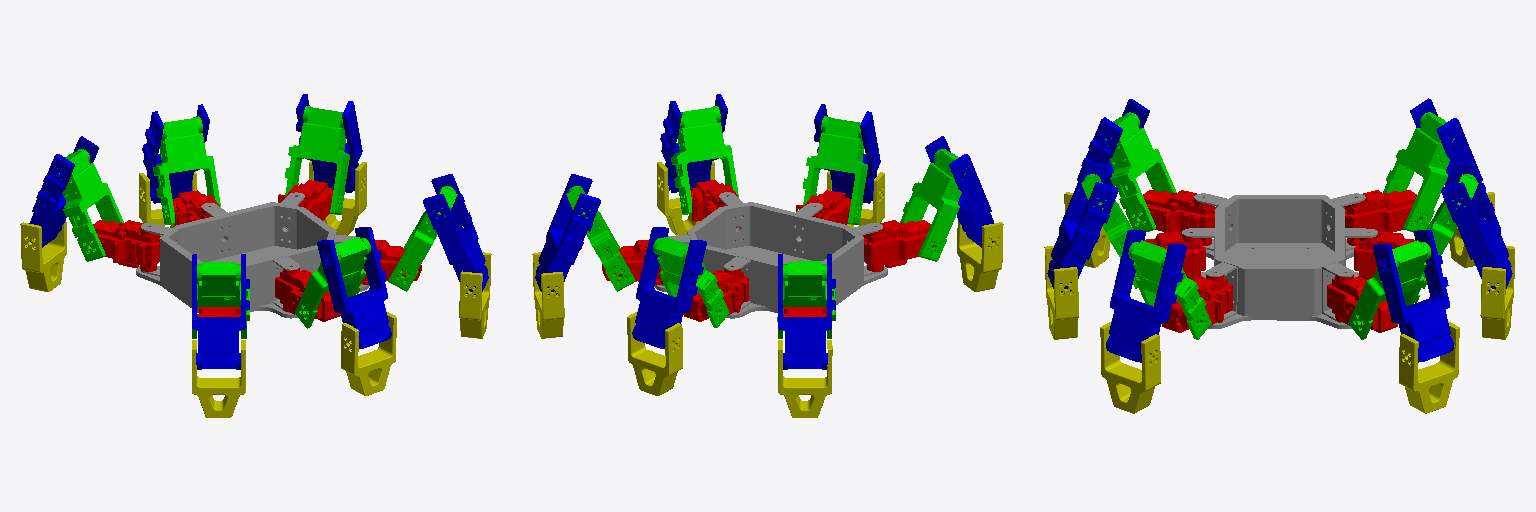
The robot description file, URDF, robot "hexapod":
<?xml version="1.0" ?>
<!-- =================================================================================== -->
<!-- |    This document was autogenerated by xacro from hexapod.xacro                  | -->
<!-- |    EDITING THIS FILE BY HAND IS NOT RECOMMENDED                                 | -->
<!-- =================================================================================== -->
<robot name="hexapod" xmlns:xacro="http://www.ros.org/wiki/xacro">
  <link name="base_link">
    <visual>
      <origin rpy="1.57 0 0"/>
      <geometry>
        <mesh filename="package://model/meshes/body_bin.stl"/>
      </geometry>
      <material name="abs">
        <color rgba="0.6 0.6 0.6 1"/>
      </material>
      <collision>
        <mesh filename="package://model/meshes/body_bin.stl"/>
      </collision>
    </visual>
  </link>
  <link name="leg_l_1_f1">
    <visual>
      <origin rpy="0 1.57 -1.57" xyz="-0.009 0 0"/>
      <geometry>
        <mesh filename="package://model/meshes/femur_1_bin.stl"/>
      </geometry>
      <material name="abs1">
        <color rgba="0.9 0.0 0.0 1"/>
      </material>
    </visual>
  </link>
  <link name="leg_l_1_f3">
    <visual>
      <origin rpy="4.71 0 1.57" xyz="0 -0.053 0.013"/>
      <geometry>
        <mesh filename="package://model/meshes/femur_3_bin.stl"/>
      </geometry>
      <material name="abs2">
        <color rgba="0.0 0.9 0.0 1"/>
      </material>
    </visual>
  </link>
  <link name="leg_l_1_f2">
    <visual>
      <origin rpy="4.71 0 0" xyz="-0.063 0 0.013"/>
      <geometry>
        <mesh filename="package://model/meshes/femur_2_bin.stl"/>
      </geometry>
      <material name="abs3">
        <color rgba="0.0 0.0 0.9 1"/>
      </material>
    </visual>
  </link>
  <link name="leg_l_1_f4">
    <visual>
      <origin rpy="1.57 0 4.71" xyz="0 0.038 -0.013"/>
      <geometry>
        <mesh filename="package://model/meshes/femur_4_bin.stl"/>
      </geometry>
      <material name="abs4">
        <color rgba="0.8 0.8 0.0 1"/>
      </material>
    </visual>
  </link>
  <joint name="joint_l_1_f1" type="revolute">
    <parent link="base_link"/>
    <child link="leg_l_1_f1"/>
    <origin rpy="0 0 0.7" xyz="0.103 0.07 0"/>
    <axis xyz="0 0 1"/>
    <limit effort="15" lower="-1.57" upper="1.57" velocity="1.0"/>
  </joint>
  <joint name="joint_l_1_f3" type="revolute">
    <parent link="leg_l_1_f1"/>
    <child link="leg_l_1_f3"/>
    <origin rpy="-1.1 0 1.57" xyz="0.062 0.0 0.0"/>
    <axis xyz="1 0 0"/>
    <limit effort="15" lower="-1.57" upper="1.57" velocity="1.0"/>
  </joint>
  <joint name="joint_l_1_f2" type="revolute">
    <parent link="leg_l_1_f3"/>
    <child link="leg_l_1_f2"/>
    <origin rpy="0 -2.3 1.57" xyz="0.0 -0.094 0.0"/>
    <axis xyz="0 1 0"/>
    <limit effort="15" lower="-1.57" upper="1.57" velocity="1.0"/>
  </joint>
  <joint name="joint_l_1_f4" type="revolute">
    <parent link="leg_l_1_f2"/>
    <child link="leg_l_1_f4"/>
    <origin rpy="-0.4 0 1.57" xyz="-0.104 0.0 0.0"/>
    <axis xyz="1 0 0"/>
    <limit effort="15" lower="-1.57" upper="1.57" velocity="1.0"/>
  </joint>
  <link name="leg_l_2_f1">
    <visual>
      <origin rpy="0 1.57 -1.57" xyz="-0.009 0 0"/>
      <geometry>
        <mesh filename="package://model/meshes/femur_1_bin.stl"/>
      </geometry>
      <material name="abs1">
        <color rgba="0.9 0.0 0.0 1"/>
      </material>
    </visual>
  </link>
  <link name="leg_l_2_f3">
    <visual>
      <origin rpy="4.71 0 1.57" xyz="0 -0.053 0.013"/>
      <geometry>
        <mesh filename="package://model/meshes/femur_3_bin.stl"/>
      </geometry>
      <material name="abs2">
        <color rgba="0.0 0.9 0.0 1"/>
      </material>
    </visual>
  </link>
  <link name="leg_l_2_f2">
    <visual>
      <origin rpy="4.71 0 0" xyz="-0.063 0 0.013"/>
      <geometry>
        <mesh filename="package://model/meshes/femur_2_bin.stl"/>
      </geometry>
      <material name="abs3">
        <color rgba="0.0 0.0 0.9 1"/>
      </material>
    </visual>
  </link>
  <link name="leg_l_2_f4">
    <visual>
      <origin rpy="1.57 0 4.71" xyz="0 0.038 -0.013"/>
      <geometry>
        <mesh filename="package://model/meshes/femur_4_bin.stl"/>
      </geometry>
      <material name="abs4">
        <color rgba="0.8 0.8 0.0 1"/>
      </material>
    </visual>
  </link>
  <joint name="joint_l_2_f1" type="revolute">
    <parent link="base_link"/>
    <child link="leg_l_2_f1"/>
    <origin rpy="0 0 1.4" xyz="0.0 0.096 0"/>
    <axis xyz="0 0 1"/>
    <limit effort="15" lower="-1.57" upper="1.57" velocity="1.0"/>
  </joint>
  <joint name="joint_l_2_f3" type="revolute">
    <parent link="leg_l_2_f1"/>
    <child link="leg_l_2_f3"/>
    <origin rpy="-1.1 0 1.57" xyz="0.062 0.0 0.0"/>
    <axis xyz="1 0 0"/>
    <limit effort="15" lower="-1.57" upper="1.57" velocity="1.0"/>
  </joint>
  <joint name="joint_l_2_f2" type="revolute">
    <parent link="leg_l_2_f3"/>
    <child link="leg_l_2_f2"/>
    <origin rpy="0 -2.3 1.57" xyz="0.0 -0.094 0.0"/>
    <axis xyz="1 0 0"/>
    <limit effort="15" lower="-1.57" upper="1.57" velocity="1.0"/>
  </joint>
  <joint name="joint_l_2_f4" type="revolute">
    <parent link="leg_l_2_f2"/>
    <child link="leg_l_2_f4"/>
    <origin rpy="-0.4 0 1.57" xyz="-0.104 0.0 0.0"/>
    <axis xyz="1 0 0"/>
    <limit effort="15" lower="-1.57" upper="1.57" velocity="1.0"/>
  </joint>
  <link name="leg_l_3_f1">
    <visual>
      <origin rpy="0 1.57 -1.57" xyz="-0.009 0 0"/>
      <geometry>
        <mesh filename="package://model/meshes/femur_1_bin.stl"/>
      </geometry>
      <material name="abs1">
        <color rgba="0.9 0.0 0.0 1"/>
      </material>
    </visual>
  </link>
  <link name="leg_l_3_f3">
    <visual>
      <origin rpy="4.71 0 1.57" xyz="0 -0.053 0.013"/>
      <geometry>
        <mesh filename="package://model/meshes/femur_3_bin.stl"/>
      </geometry>
      <material name="abs2">
        <color rgba="0.0 0.9 0.0 1"/>
      </material>
    </visual>
  </link>
  <link name="leg_l_3_f2">
    <visual>
      <origin rpy="4.71 0 0" xyz="-0.063 0 0.013"/>
      <geometry>
        <mesh filename="package://model/meshes/femur_2_bin.stl"/>
      </geometry>
      <material name="abs3">
        <color rgba="0.0 0.0 0.9 1"/>
      </material>
    </visual>
  </link>
  <link name="leg_l_3_f4">
    <visual>
      <origin rpy="1.57 0 4.71" xyz="0 0.038 -0.013"/>
      <geometry>
        <mesh filename="package://model/meshes/femur_4_bin.stl"/>
      </geometry>
      <material name="abs4">
        <color rgba="0.8 0.8 0.0 1"/>
      </material>
    </visual>
  </link>
  <joint name="joint_l_3_f1" type="revolute">
    <parent link="base_link"/>
    <child link="leg_l_3_f1"/>
    <origin rpy="0 0 2.1" xyz="-0.09 0.083 0"/>
    <axis xyz="0 0 1"/>
    <limit effort="15" lower="-1.57" upper="1.57" velocity="1.0"/>
  </joint>
  <joint name="joint_l_3_f3" type="revolute">
    <parent link="leg_l_3_f1"/>
    <child link="leg_l_3_f3"/>
    <origin rpy="-1.1 0 1.57" xyz="0.062 0.0 0.0"/>
    <axis xyz="1 0 0"/>
    <limit effort="15" lower="-1.57" upper="1.57" velocity="1.0"/>
  </joint>
  <joint name="joint_l_3_f2" type="revolute">
    <parent link="leg_l_3_f3"/>
    <child link="leg_l_3_f2"/>
    <origin rpy="0 -2.3 1.57" xyz="0.0 -0.094 0.0"/>
    <axis xyz="1 0 0"/>
    <limit effort="15" lower="-1.57" upper="1.57" velocity="1.0"/>
  </joint>
  <joint name="joint_l_3_f4" type="revolute">
    <parent link="leg_l_3_f2"/>
    <child link="leg_l_3_f4"/>
    <origin rpy="-0.4 0 1.57" xyz="-0.104 0.0 0.0"/>
    <axis xyz="1 0 0"/>
    <limit effort="15" lower="-1.57" upper="1.57" velocity="1.0"/>
  </joint>
  <link name="leg__1_f1">
    <visual>
      <origin rpy="0 1.57 -1.57" xyz="-0.009 0 0"/>
      <geometry>
        <mesh filename="package://model/meshes/femur_1_bin.stl"/>
      </geometry>
      <material name="abs1">
        <color rgba="0.9 0.0 0.0 1"/>
      </material>
    </visual>
  </link>
  <link name="leg__1_f3">
    <visual>
      <origin rpy="4.71 0 1.57" xyz="0 -0.053 0.013"/>
      <geometry>
        <mesh filename="package://model/meshes/femur_3_bin.stl"/>
      </geometry>
      <material name="abs2">
        <color rgba="0.0 0.9 0.0 1"/>
      </material>
    </visual>
  </link>
  <link name="leg__1_f2">
    <visual>
      <origin rpy="4.71 0 0" xyz="-0.063 0 0.013"/>
      <geometry>
        <mesh filename="package://model/meshes/femur_2_bin.stl"/>
      </geometry>
      <material name="abs3">
        <color rgba="0.0 0.0 0.9 1"/>
      </material>
    </visual>
  </link>
  <link name="leg__1_f4">
    <visual>
      <origin rpy="1.57 0 4.71" xyz="0 0.038 -0.013"/>
      <geometry>
        <mesh filename="package://model/meshes/femur_4_bin.stl"/>
      </geometry>
      <material name="abs4">
        <color rgba="0.8 0.8 0.0 1"/>
      </material>
    </visual>
  </link>
  <joint name="joint__1_f1" type="revolute">
    <parent link="base_link"/>
    <child link="leg__1_f1"/>
    <origin rpy="0 0 -0.7" xyz="0.103 -0.07 0"/>
    <axis xyz="0 0 1"/>
    <limit effort="15" lower="-1.57" upper="1.57" velocity="1.0"/>
  </joint>
  <joint name="joint__1_f3" type="revolute">
    <parent link="leg__1_f1"/>
    <child link="leg__1_f3"/>
    <origin rpy="-1.1 0 1.57" xyz="0.062 0.0 0.0"/>
    <axis xyz="1 0 0"/>
    <limit effort="15" lower="-1.57" upper="1.57" velocity="1.0"/>
  </joint>
  <joint name="joint__1_f2" type="revolute">
    <parent link="leg__1_f3"/>
    <child link="leg__1_f2"/>
    <origin rpy="0 -2.3 1.57" xyz="0.0 -0.094 0.0"/>
    <axis xyz="1 0 0"/>
    <limit effort="15" lower="-1.57" upper="1.57" velocity="1.0"/>
  </joint>
  <joint name="joint__1_f4" type="revolute">
    <parent link="leg__1_f2"/>
    <child link="leg__1_f4"/>
    <origin rpy="-0.4 0 1.57" xyz="-0.104 0.0 0.0"/>
    <axis xyz="1 0 0"/>
    <limit effort="15" lower="-1.57" upper="1.57" velocity="1.0"/>
  </joint>
  <link name="leg_r_2_f1">
    <visual>
      <origin rpy="0 1.57 -1.57" xyz="-0.009 0 0"/>
      <geometry>
        <mesh filename="package://model/meshes/femur_1_bin.stl"/>
      </geometry>
      <material name="abs1">
        <color rgba="0.9 0.0 0.0 1"/>
      </material>
    </visual>
  </link>
  <link name="leg_r_2_f3">
    <visual>
      <origin rpy="4.71 0 1.57" xyz="0 -0.053 0.013"/>
      <geometry>
        <mesh filename="package://model/meshes/femur_3_bin.stl"/>
      </geometry>
      <material name="abs2">
        <color rgba="0.0 0.9 0.0 1"/>
      </material>
    </visual>
  </link>
  <link name="leg_r_2_f2">
    <visual>
      <origin rpy="4.71 0 0" xyz="-0.063 0 0.013"/>
      <geometry>
        <mesh filename="package://model/meshes/femur_2_bin.stl"/>
      </geometry>
      <material name="abs3">
        <color rgba="0.0 0.0 0.9 1"/>
      </material>
    </visual>
  </link>
  <link name="leg_r_2_f4">
    <visual>
      <origin rpy="1.57 0 4.71" xyz="0 0.038 -0.013"/>
      <geometry>
        <mesh filename="package://model/meshes/femur_4_bin.stl"/>
      </geometry>
      <material name="abs4">
        <color rgba="0.8 0.8 0.0 1"/>
      </material>
    </visual>
  </link>
  <joint name="joint_r_2_f1" type="revolute">
    <parent link="base_link"/>
    <child link="leg_r_2_f1"/>
    <origin rpy="0 0 -1.4" xyz="0.0 -0.096 0"/>
    <axis xyz="0 0 1"/>
    <limit effort="15" lower="-1.57" upper="1.57" velocity="1.0"/>
  </joint>
  <joint name="joint_r_2_f3" type="revolute">
    <parent link="leg_r_2_f1"/>
    <child link="leg_r_2_f3"/>
    <origin rpy="-1.1 0 1.57" xyz="0.062 0.0 0.0"/>
    <axis xyz="1 0 0"/>
    <limit effort="15" lower="-1.57" upper="1.57" velocity="1.0"/>
  </joint>
  <joint name="joint_r_2_f2" type="revolute">
    <parent link="leg_r_2_f3"/>
    <child link="leg_r_2_f2"/>
    <origin rpy="0 -2.3 1.57" xyz="0.0 -0.094 0.0"/>
    <axis xyz="1 0 0"/>
    <limit effort="15" lower="-1.57" upper="1.57" velocity="1.0"/>
  </joint>
  <joint name="joint_r_2_f4" type="revolute">
    <parent link="leg_r_2_f2"/>
    <child link="leg_r_2_f4"/>
    <origin rpy="-0.4 0 1.57" xyz="-0.104 0.0 0.0"/>
    <axis xyz="1 0 0"/>
    <limit effort="15" lower="-1.57" upper="1.57" velocity="1.0"/>
  </joint>
  <link name="leg_r_3_f1">
    <visual>
      <origin rpy="0 1.57 -1.57" xyz="-0.009 0 0"/>
      <geometry>
        <mesh filename="package://model/meshes/femur_1_bin.stl"/>
      </geometry>
      <material name="abs1">
        <color rgba="0.9 0.0 0.0 1"/>
      </material>
    </visual>
  </link>
  <link name="leg_r_3_f3">
    <visual>
      <origin rpy="4.71 0 1.57" xyz="0 -0.053 0.013"/>
      <geometry>
        <mesh filename="package://model/meshes/femur_3_bin.stl"/>
      </geometry>
      <material name="abs2">
        <color rgba="0.0 0.9 0.0 1"/>
      </material>
    </visual>
  </link>
  <link name="leg_r_3_f2">
    <visual>
      <origin rpy="4.71 0 0" xyz="-0.063 0 0.013"/>
      <geometry>
        <mesh filename="package://model/meshes/femur_2_bin.stl"/>
      </geometry>
      <material name="abs3">
        <color rgba="0.0 0.0 0.9 1"/>
      </material>
    </visual>
  </link>
  <link name="leg_r_3_f4">
    <visual>
      <origin rpy="1.57 0 4.71" xyz="0 0.038 -0.013"/>
      <geometry>
        <mesh filename="package://model/meshes/femur_4_bin.stl"/>
      </geometry>
      <material name="abs4">
        <color rgba="0.8 0.8 0.0 1"/>
      </material>
    </visual>
  </link>
  <joint name="joint_r_3_f1" type="revolute">
    <parent link="base_link"/>
    <child link="leg_r_3_f1"/>
    <origin rpy="0 0 -2.1" xyz="-0.09 -0.083 0"/>
    <axis xyz="0 0 1"/>
    <limit effort="15" lower="-1.57" upper="1.57" velocity="1.0"/>
  </joint>
  <joint name="joint_r_3_f3" type="revolute">
    <parent link="leg_r_3_f1"/>
    <child link="leg_r_3_f3"/>
    <origin rpy="-1.1 0 1.57" xyz="0.062 0.0 0.0"/>
    <axis xyz="1 0 0"/>
    <limit effort="15" lower="-1.57" upper="1.57" velocity="1.0"/>
  </joint>
  <joint name="joint_r_3_f2" type="revolute">
    <parent link="leg_r_3_f3"/>
    <child link="leg_r_3_f2"/>
    <origin rpy="0 -2.3 1.57" xyz="0.0 -0.094 0.0"/>
    <axis xyz="1 0 0"/>
    <limit effort="15" lower="-1.57" upper="1.57" velocity="1.0"/>
  </joint>
  <joint name="joint_r_3_f4" type="revolute">
    <parent link="leg_r_3_f2"/>
    <child link="leg_r_3_f4"/>
    <origin rpy="-0.4 0 1.57" xyz="-0.104 0.0 0.0"/>
    <axis xyz="1 0 0"/>
    <limit effort="15" lower="-1.57" upper="1.57" velocity="1.0"/>
  </joint>
  <model_state model="hexapod" time_stamp="0.1">
    <joint_state joint="joint_l_1_f1" position="1.57"/>
    <joint_state joint="joint_l_1_f2" position="1.57"/>
  </model_state>
</robot>

--- Facts derived from the render (not from the file) ---
The picture shows the robot from 3 angles, left to right: view 1: azimuth 30°, elevation 25°; view 2: azimuth 150°, elevation 25°; view 3: azimuth 270°, elevation 25°; orthographic projection.
Model hexapod with 25 links and 24 joints (24 revolute), rooted at base_link, posed all joints at 0.
Links seen in each view (by area): view 1: base_link, leg_r_2_f2, leg_l_3_f3, leg_l_2_f3, leg_l_1_f3, leg__1_f2, leg_r_3_f2, leg_r_2_f4, leg_l_3_f1, leg_l_3_f2, leg_r_2_f3, leg_l_3_f4 (+12 smaller); view 2: base_link, leg_l_2_f2, leg_r_3_f3, leg_r_2_f3, leg__1_f3, leg_l_1_f2, leg_l_3_f2, leg_l_2_f4, leg_r_3_f1, leg_r_3_f2, leg_r_3_f4, leg_l_2_f3 (+12 smaller); view 3: base_link, leg__1_f2, leg_l_1_f2, leg_r_3_f3, leg_l_3_f3, leg_l_2_f2, leg_r_2_f2, leg_l_1_f4, leg__1_f4, leg_l_1_f3, leg__1_f3, leg_l_3_f1 (+13 smaller).
Link boxes in pixels (box(x1,y1,x2,y2)): base_link: box(136, 192, 368, 318); leg_r_2_f2: box(317, 227, 391, 348); leg_l_3_f3: box(57, 149, 123, 261); leg_l_2_f3: box(153, 116, 220, 224); leg_l_1_f3: box(285, 106, 349, 214); leg__1_f2: box(423, 174, 488, 294); leg_r_3_f2: box(192, 254, 249, 369); leg_r_2_f4: box(341, 311, 396, 395); leg_l_3_f1: box(90, 220, 160, 271); leg_l_3_f2: box(29, 136, 98, 247); leg_r_2_f3: box(295, 237, 370, 328); leg_l_3_f4: box(20, 221, 66, 291); base_link: box(655, 192, 887, 318); leg_l_2_f2: box(632, 227, 706, 348); leg_r_3_f3: box(900, 149, 966, 261); leg_r_2_f3: box(803, 116, 867, 224); leg__1_f3: box(671, 106, 738, 214); leg_l_1_f2: box(535, 174, 600, 294); leg_l_3_f2: box(778, 254, 835, 369); leg_l_2_f4: box(627, 311, 682, 395); leg_r_3_f1: box(863, 220, 934, 271); leg_r_3_f2: box(925, 136, 993, 247); leg_r_3_f4: box(957, 220, 1003, 291); leg_l_2_f3: box(653, 237, 729, 327); base_link: box(1182, 193, 1377, 328); leg__1_f2: box(1106, 230, 1186, 362); leg_l_1_f2: box(1373, 230, 1453, 362); leg_r_3_f3: box(1105, 112, 1176, 231); leg_l_3_f3: box(1383, 112, 1454, 232); leg_l_2_f2: box(1441, 161, 1512, 292); leg_r_2_f2: box(1047, 161, 1118, 292); leg_l_1_f4: box(1399, 321, 1459, 413); leg__1_f4: box(1100, 321, 1160, 413); leg_l_1_f3: box(1348, 240, 1430, 339); leg__1_f3: box(1128, 240, 1211, 339); leg_l_3_f1: box(1343, 190, 1420, 245).
Bounding box of the posed robot: 0.4387 × 0.5099 × 0.1909 m (x, y, z).
Meshes: 5 distinct files referenced, 25 mesh visuals loaded (5 binary STL).